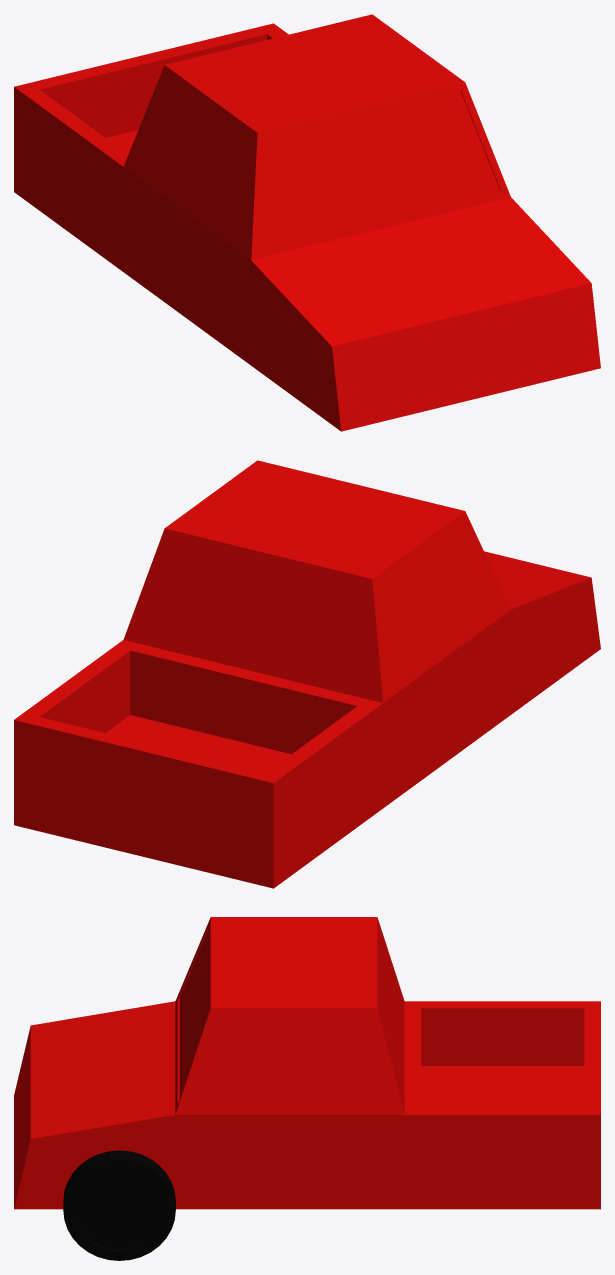
File: car.glb
3 views of the same model, one above another, from view 1: azimuth 30°, elevation 25°; view 2: azimuth 150°, elevation 25°; view 3: azimuth 270°, elevation 25° (orthographic). The views are drawn at different scales.
Visible parts, largest first — view 1: Chassis; view 2: Chassis; view 3: Chassis, Tire.
Boxes of the visible parts, x1=… form: Chassis: x1=14, y1=14, x2=600, y2=431; Chassis: x1=14, y1=460, x2=600, y2=888; Chassis: x1=14, y1=917, x2=600, y2=1209; Tire: x1=63, y1=1150, x2=175, y2=1260.
Size of the model in its own units: 2.15 by 1.91 by 4.37.
